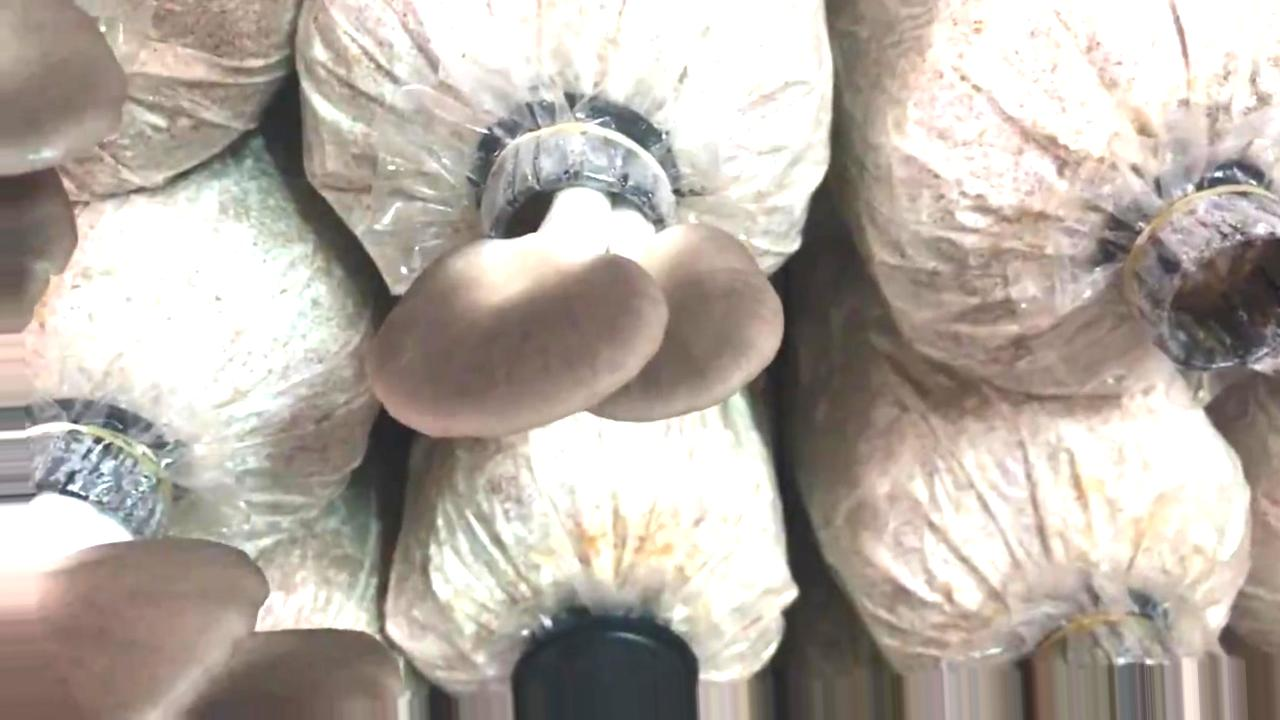nam: (368, 118, 785, 442), (1, 406, 402, 719), (1, 1, 130, 332)
